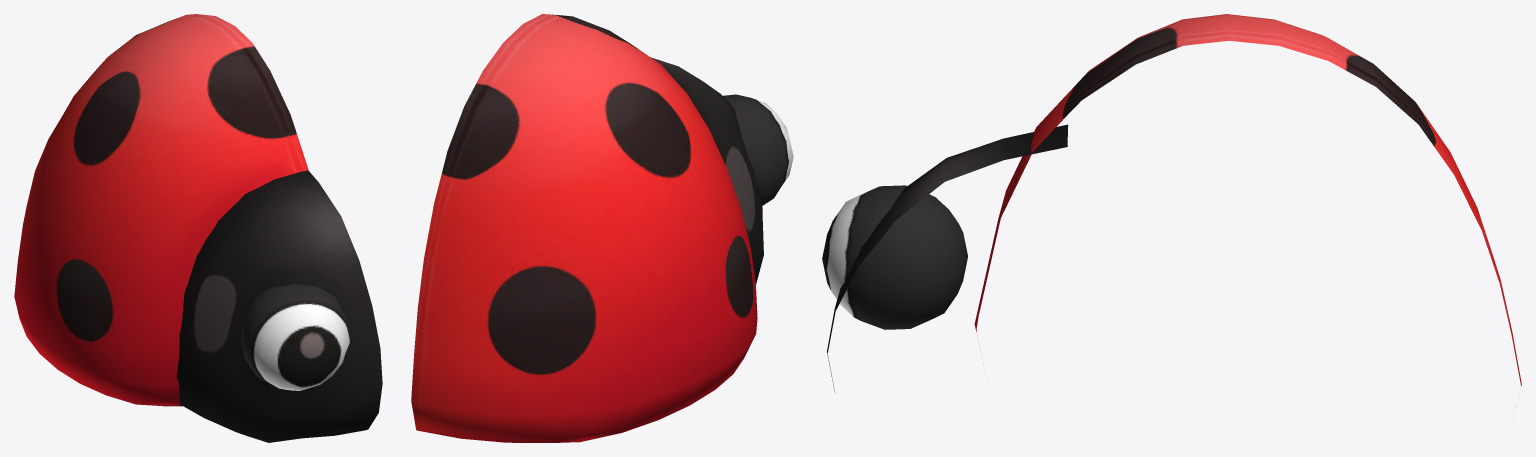
The model's file is ladybug_left.glb.
3 views of the same model, side by side, from view 1: azimuth 30°, elevation 25°; view 2: azimuth 150°, elevation 25°; view 3: azimuth 270°, elevation 25° (orthographic). The views are drawn at different scales.
Visible parts, largest first — view 1: ladybug_left; view 2: ladybug_left; view 3: ladybug_left.
Part boxes in pixels (x1,y1,x2,y2): ladybug_left: (14,14,382,442); ladybug_left: (411,14,793,442); ladybug_left: (822,14,1521,391).
Bounding box in the file's own units: 0.4265 × 0.6717 × 1.04.
Materials: 1 (1 with a texture image).
